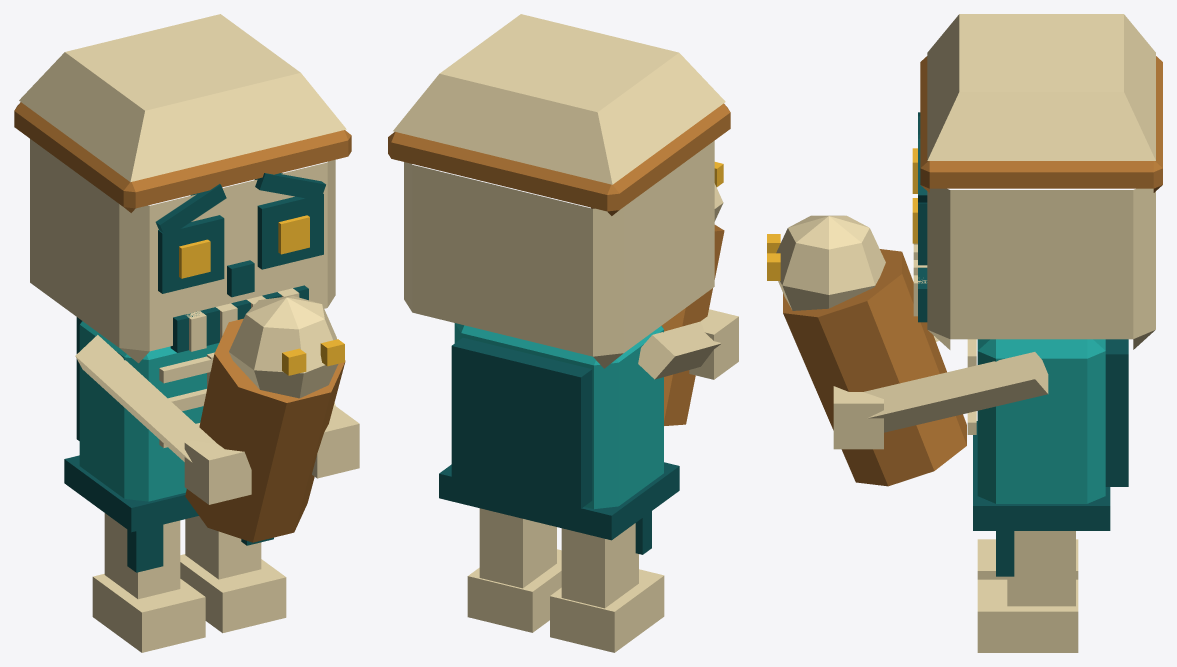
The model's file is mortar_r5.glb.
3 views of the same model, side by side, from view 1: azimuth 30°, elevation 25°; view 2: azimuth 150°, elevation 25°; view 3: azimuth 270°, elevation 25° (orthographic). The views are drawn at different scales.
Parts seen in each view (by area): view 1: mortar_r5_mesh; view 2: mortar_r5_mesh; view 3: mortar_r5_mesh.
Boxes of the visible parts, <box> form: mortar_r5_mesh: <box>14,14,359,652</box>; mortar_r5_mesh: <box>388,14,738,652</box>; mortar_r5_mesh: <box>767,14,1162,652</box>.
Bounding box in the file's own units: 0.7375 × 1.7 × 1.08.
Materials: 1 (1 with a texture image).
